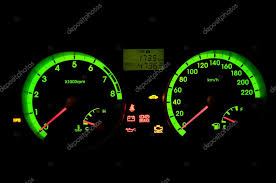Digital_Meter: (121, 48, 167, 70)
